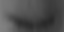LeftEyeFatigue: (2, 7, 58, 32)
